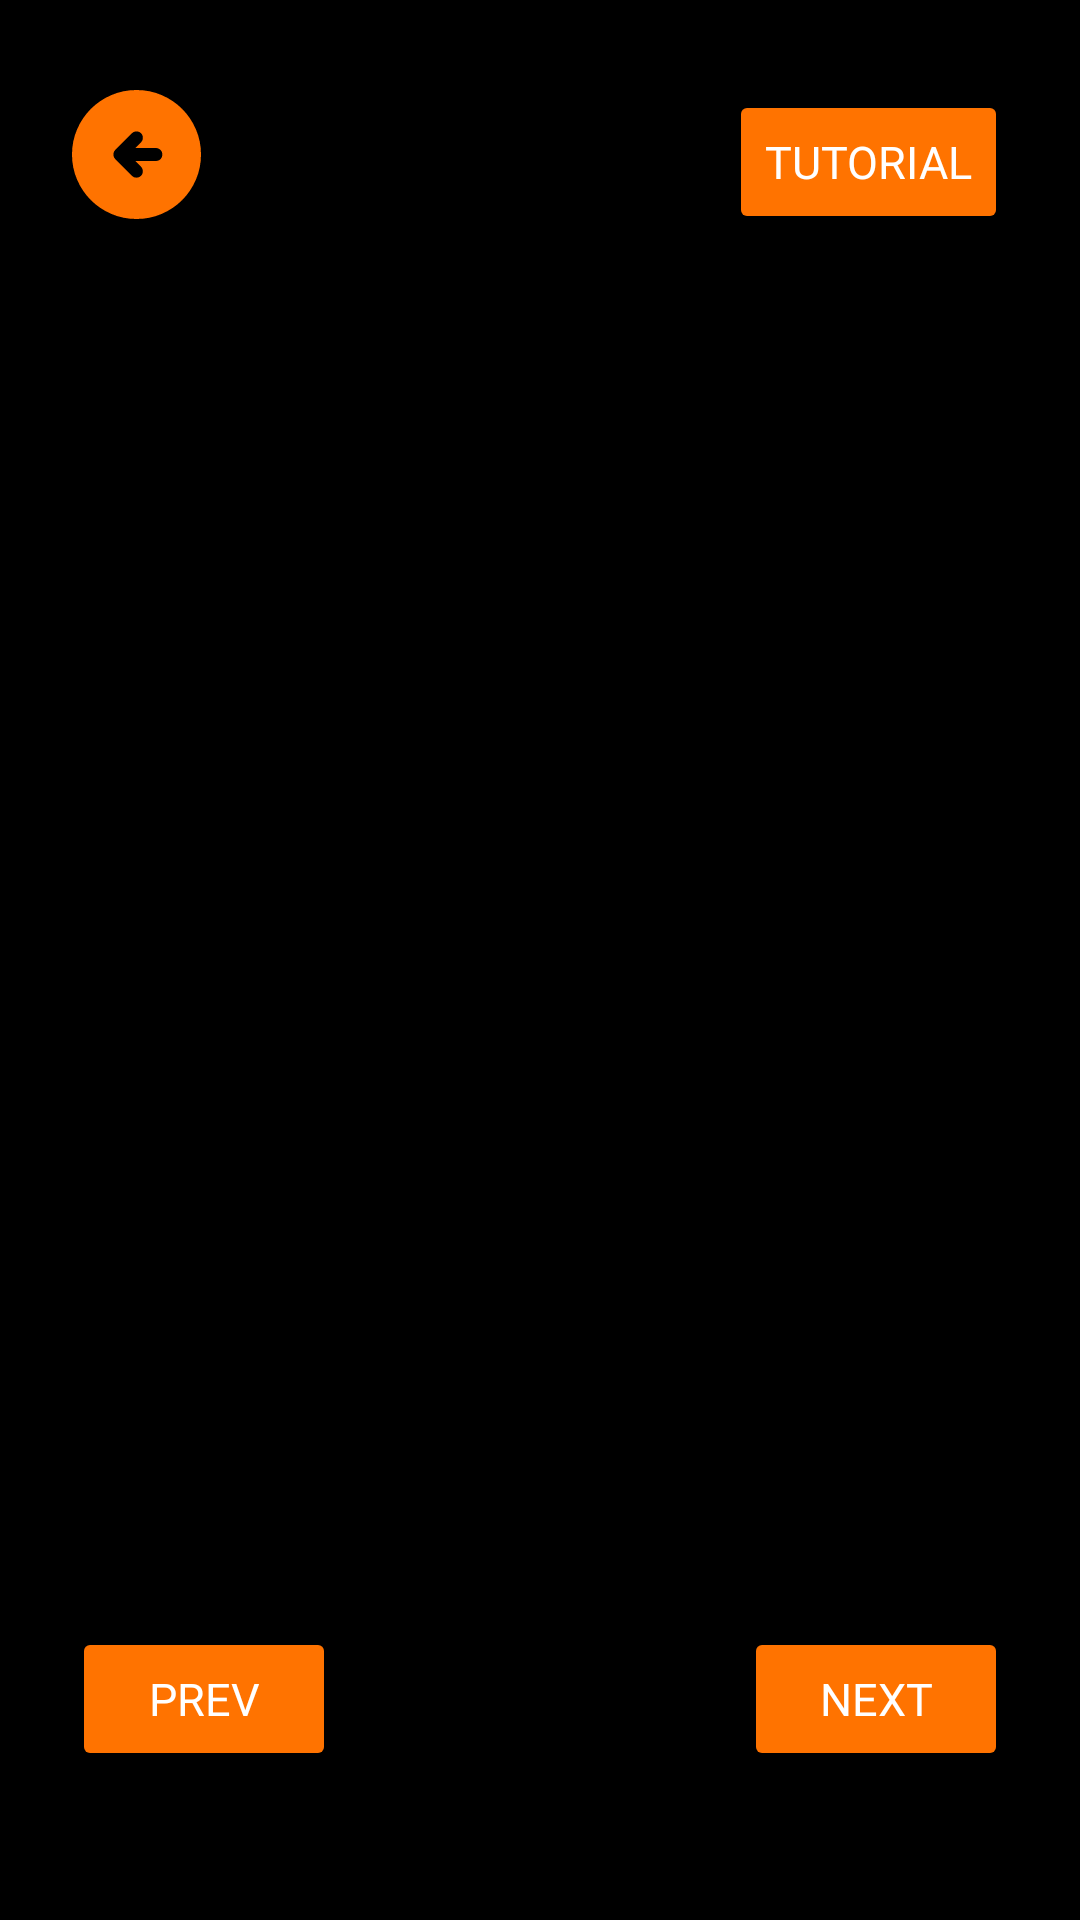

Screen size 1080w x 1920h. Icon name, then its box in pixels as bbox=(x1, y1, x2, y2):
back: bbox=(72, 90, 201, 219)
